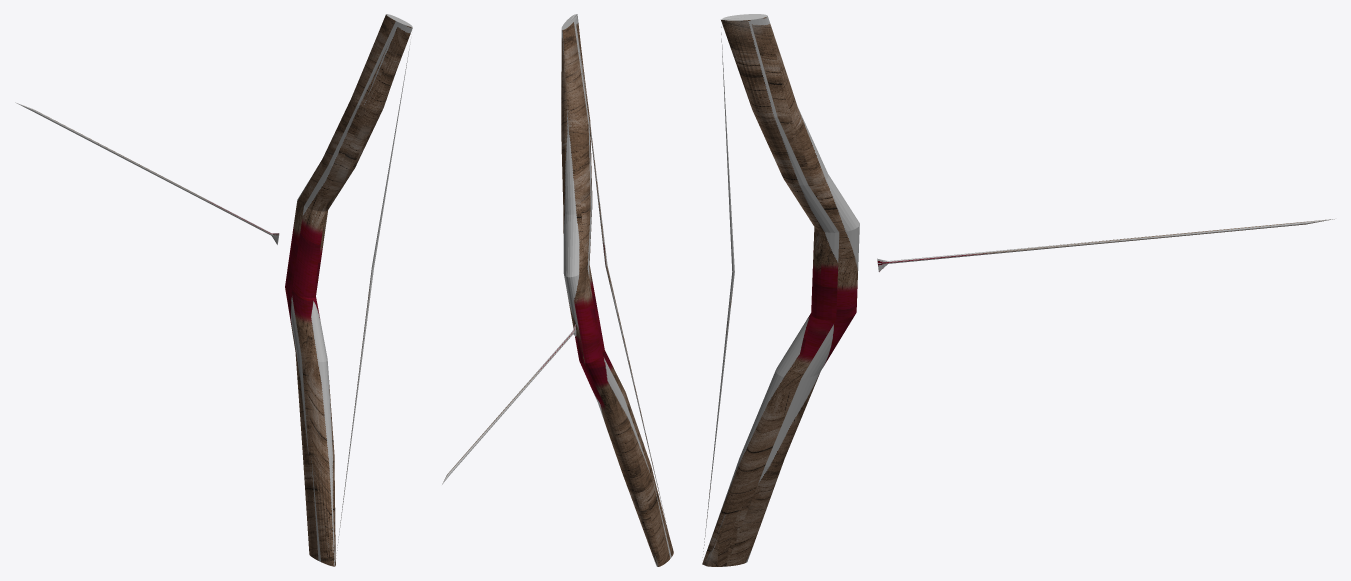
Rendered from Arco21.obj.
The picture shows the model from 3 angles, left to right: view 1: azimuth 30°, elevation 25°; view 2: azimuth 150°, elevation 25°; view 3: azimuth 270°, elevation 25°; orthographic projection. The views are drawn at different scales.
Visible parts, largest first — view 1: Cilindro; view 2: Cilindro; view 3: Cilindro.
Boxes of the visible parts, x1,y1,x2,y2 form: Cilindro: [15, 14, 412, 566]; Cilindro: [442, 14, 673, 566]; Cilindro: [702, 14, 1334, 566].
Bounding box in the file's own units: 0.2652 × 0.9705 × 0.9376.
Materials: 1 (1 with a texture image).
